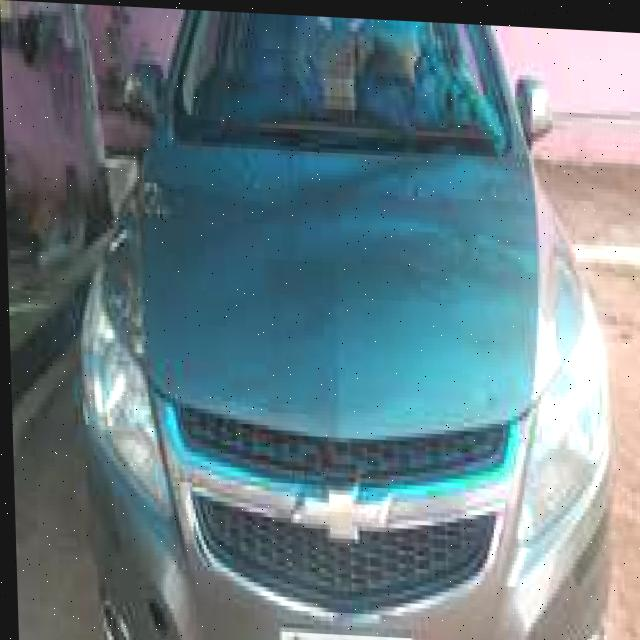plate: (273, 620, 408, 640)
